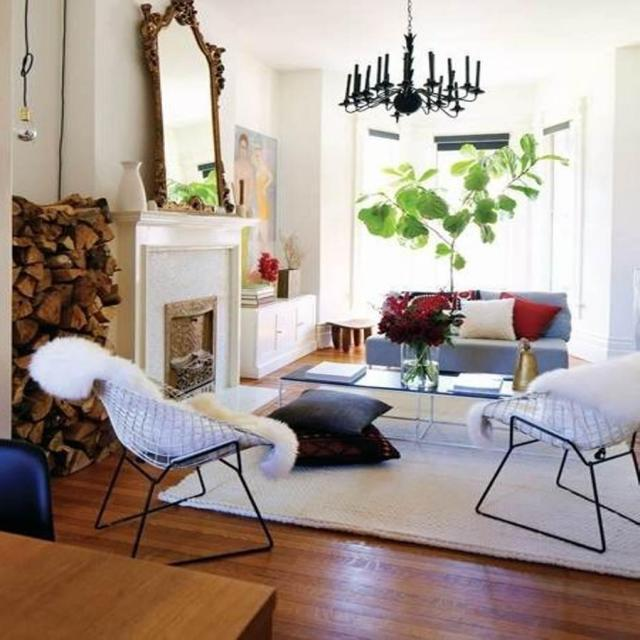couch: (366, 290, 571, 378)
